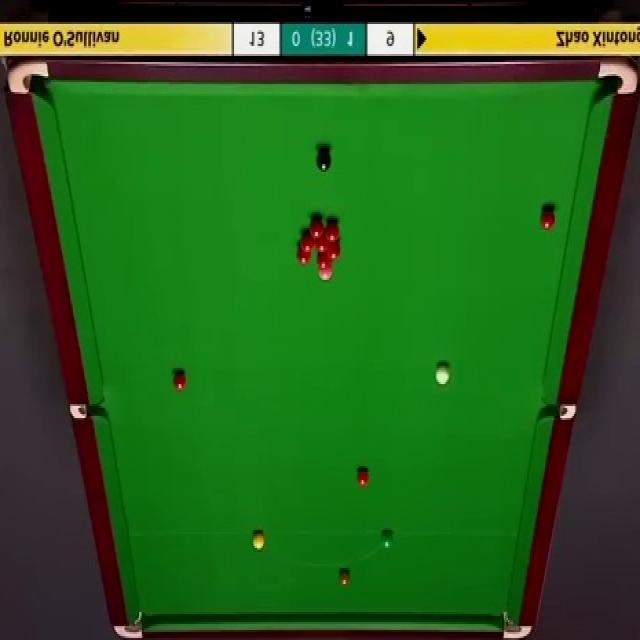pocket: (8, 56, 51, 98), (596, 60, 638, 97), (503, 609, 533, 640), (113, 614, 144, 638), (72, 402, 104, 418), (543, 405, 576, 420)
